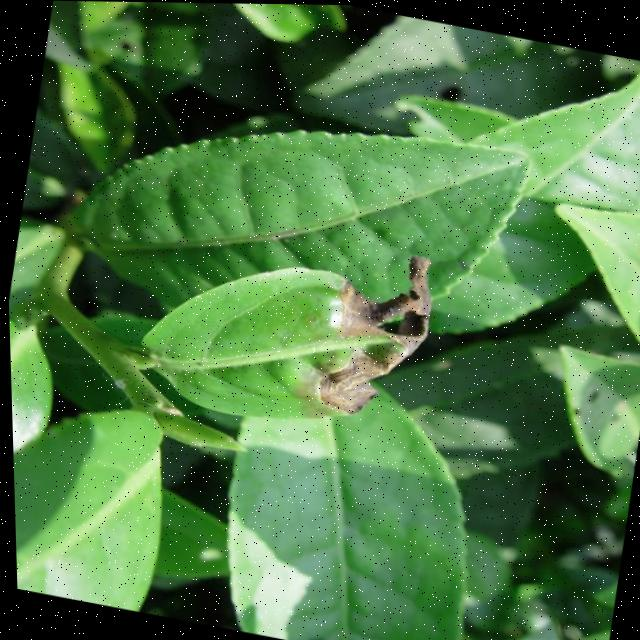Tea cloud leaf blight: (294, 244, 457, 440)
